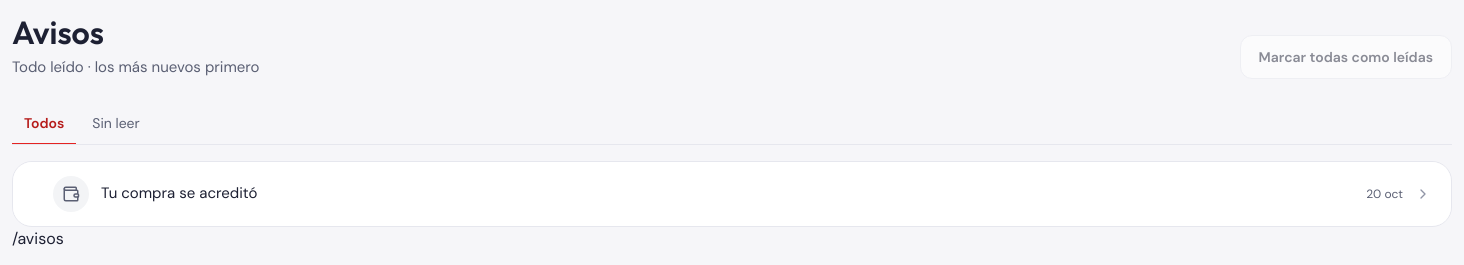
Scenario: FE-60 NoticesPage › does not mark again a notice already read
Click the button "Tu compra se acreditó 20 oct".
click(71, 194)  # box x1=13 y1=162 x2=1451 y2=226
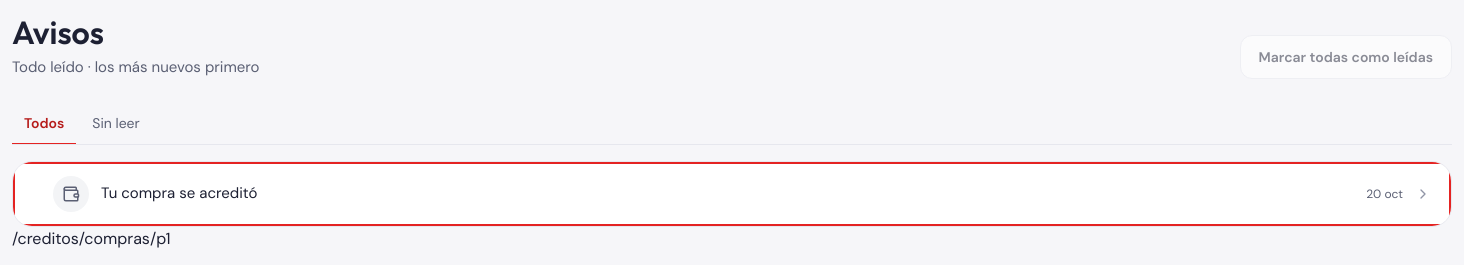
expect the text with test id "location" reads "/creditos/compras/p1": met, box x1=12 y1=228 x2=170 y2=248
